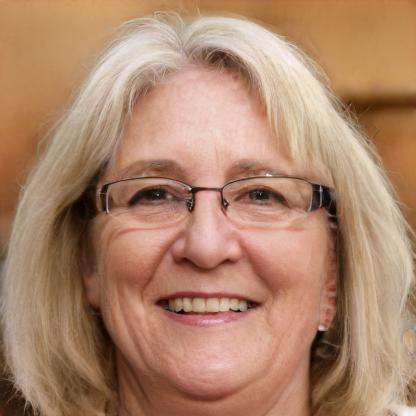glasses: (93, 171, 324, 231)
